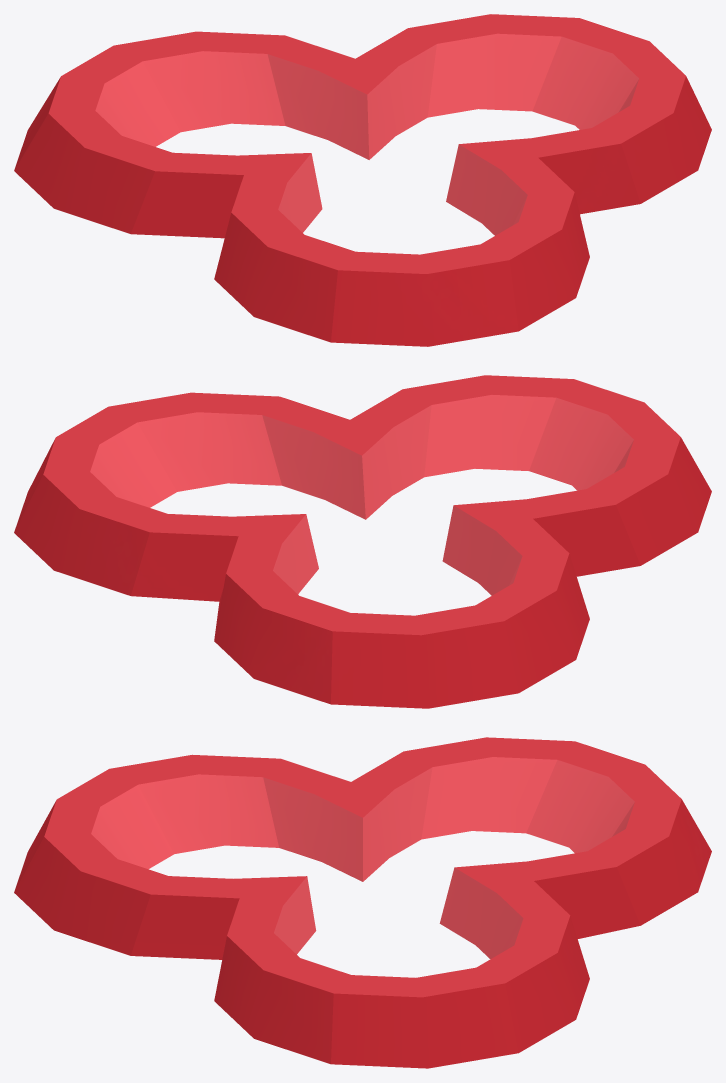
Rendered from Pepper_Slice_Pepper_0.glb.
3 views of the same model, one above another, from view 1: azimuth 30°, elevation 25°; view 2: azimuth 150°, elevation 25°; view 3: azimuth 270°, elevation 25° (orthographic).
Visible parts, largest first — view 1: Pepper_Slice_Pepper_0; view 2: Pepper_Slice_Pepper_0; view 3: Pepper_Slice_Pepper_0.
Boxes of the visible parts, x1=… form: Pepper_Slice_Pepper_0: x1=14, y1=14, x2=711, y2=346; Pepper_Slice_Pepper_0: x1=14, y1=375, x2=711, y2=708; Pepper_Slice_Pepper_0: x1=14, y1=737, x2=711, y2=1068.
Bounding box in the file's own units: 0.1037 × 0.01 × 0.1075.
Materials: 1 (1 with a texture image).
